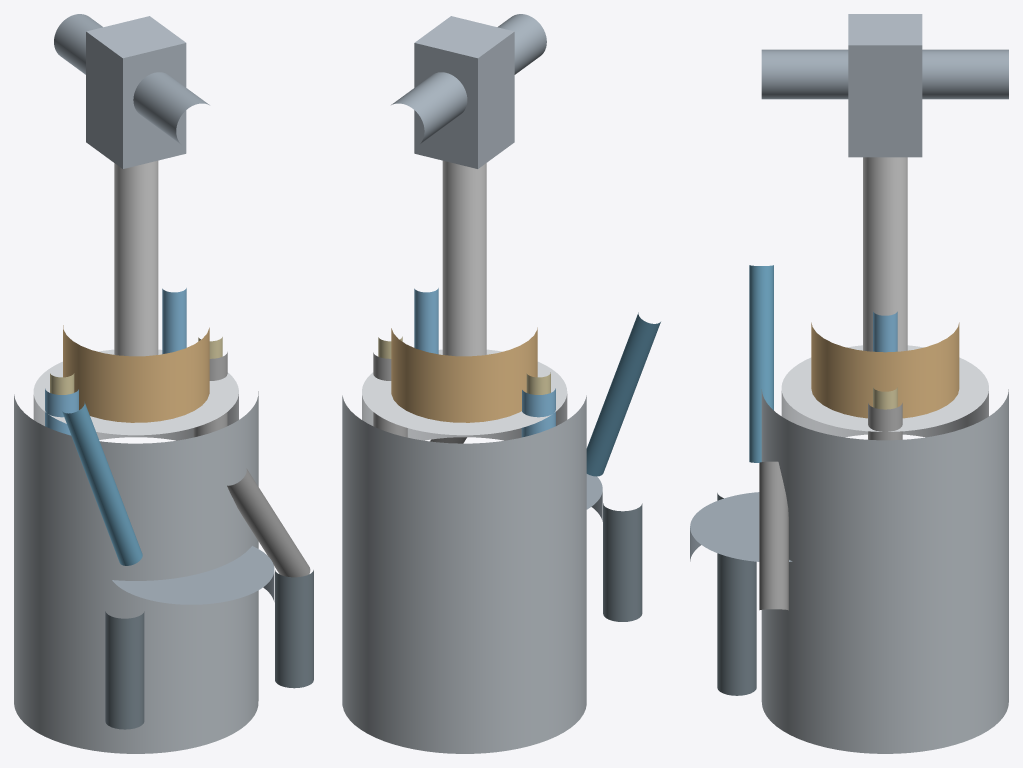
Rendered from piston-engine.glb.
3 views of the same model, side by side, from view 1: azimuth 30°, elevation 25°; view 2: azimuth 150°, elevation 25°; view 3: azimuth 270°, elevation 25° (orthographic).
Visible parts, largest first — view 1: cylinder_block, crank_weight, combustion_chamber, piston_rod, flywheel, engine_mount_1, piston, engine_mount_2, crankshaft, intake_manifold, exhaust_port, spark_plug (+2 smaller); view 2: cylinder_block, crank_weight, combustion_chamber, piston_rod, piston, engine_mount_1, crankshaft, intake_manifold, spark_plug, intake_valve, exhaust_valve, flywheel; view 3: cylinder_block, crank_weight, combustion_chamber, crankshaft, piston_rod, piston, engine_mount_2, exhaust_port, intake_manifold, flywheel, exhaust_valve, engine_mount_1 (+1 smaller).
Part boxes in pixels (x1,y1,x2,y2): cylinder_block: (14,391,258,753); crank_weight: (86,16,186,168); combustion_chamber: (63,325,209,422); piston_rod: (114,160,158,356); flywheel: (112,546,274,604); engine_mount_1: (105,611,144,729); piston: (33,349,238,440); engine_mount_2: (275,570,313,688); crankshaft: (54,14,209,144); intake_manifold: (62,402,142,565); exhaust_port: (227,468,310,577); spark_plug: (162,288,186,354); cylinder_block: (342,395,586,753); crank_weight: (414,16,514,168); combustion_chamber: (391,327,537,422); piston_rod: (442,160,486,356); piston: (362,349,567,440); engine_mount_1: (603,503,642,621); crankshaft: (391,14,546,143); intake_manifold: (586,312,660,476); spark_plug: (414,288,438,354); intake_valve: (521,388,555,437); exhaust_valve: (373,352,407,437); flywheel: (586,474,602,521); cylinder_block: (761,389,1008,753); crank_weight: (848,14,922,157); combustion_chamber: (811,322,959,418); crankshaft: (761,49,1008,99); piston_rod: (863,157,907,351); piston: (781,345,988,437); engine_mount_2: (717,576,756,695); exhaust_port: (759,461,788,610); intake_manifold: (749,265,773,462); flywheel: (690,492,792,561); exhaust_valve: (868,403,902,440); engine_mount_1: (717,493,756,583).
Size of the model in its own units: 0.6826 by 1.73 by 0.7426.
